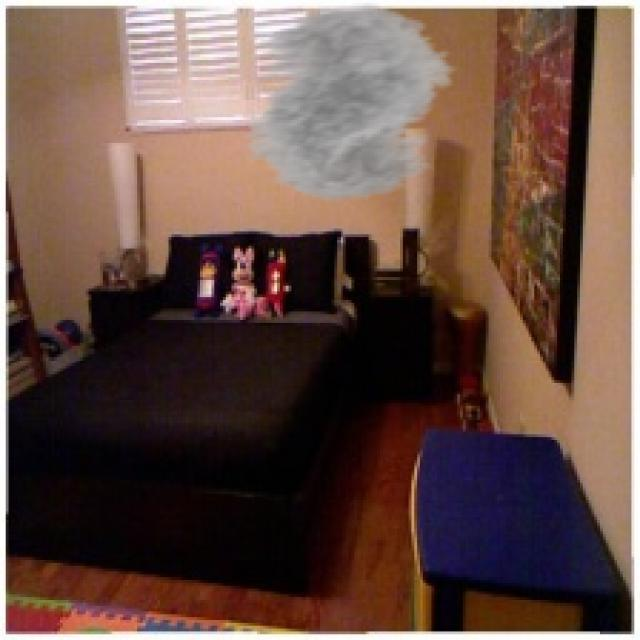Smoke: (217, 3, 474, 203)
